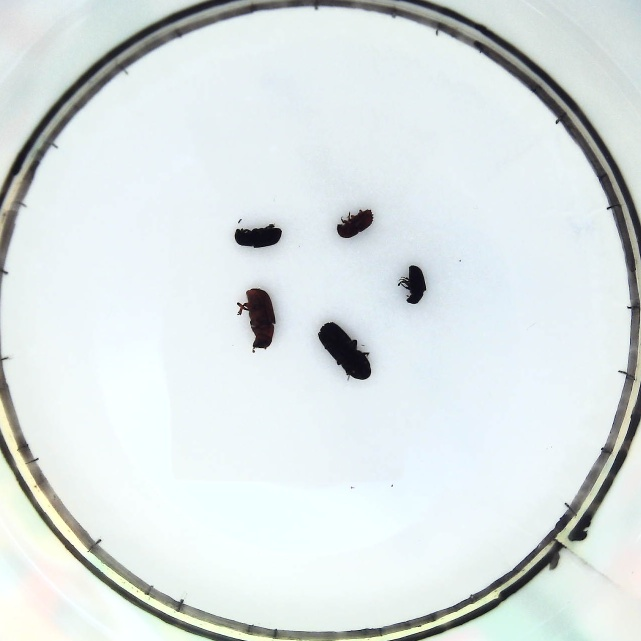armandi: (231, 223, 283, 252)
boerner: (314, 321, 377, 383)
coleoptera: (397, 262, 430, 306)
leconte: (234, 286, 278, 351)
linnaeus: (335, 206, 374, 239)
